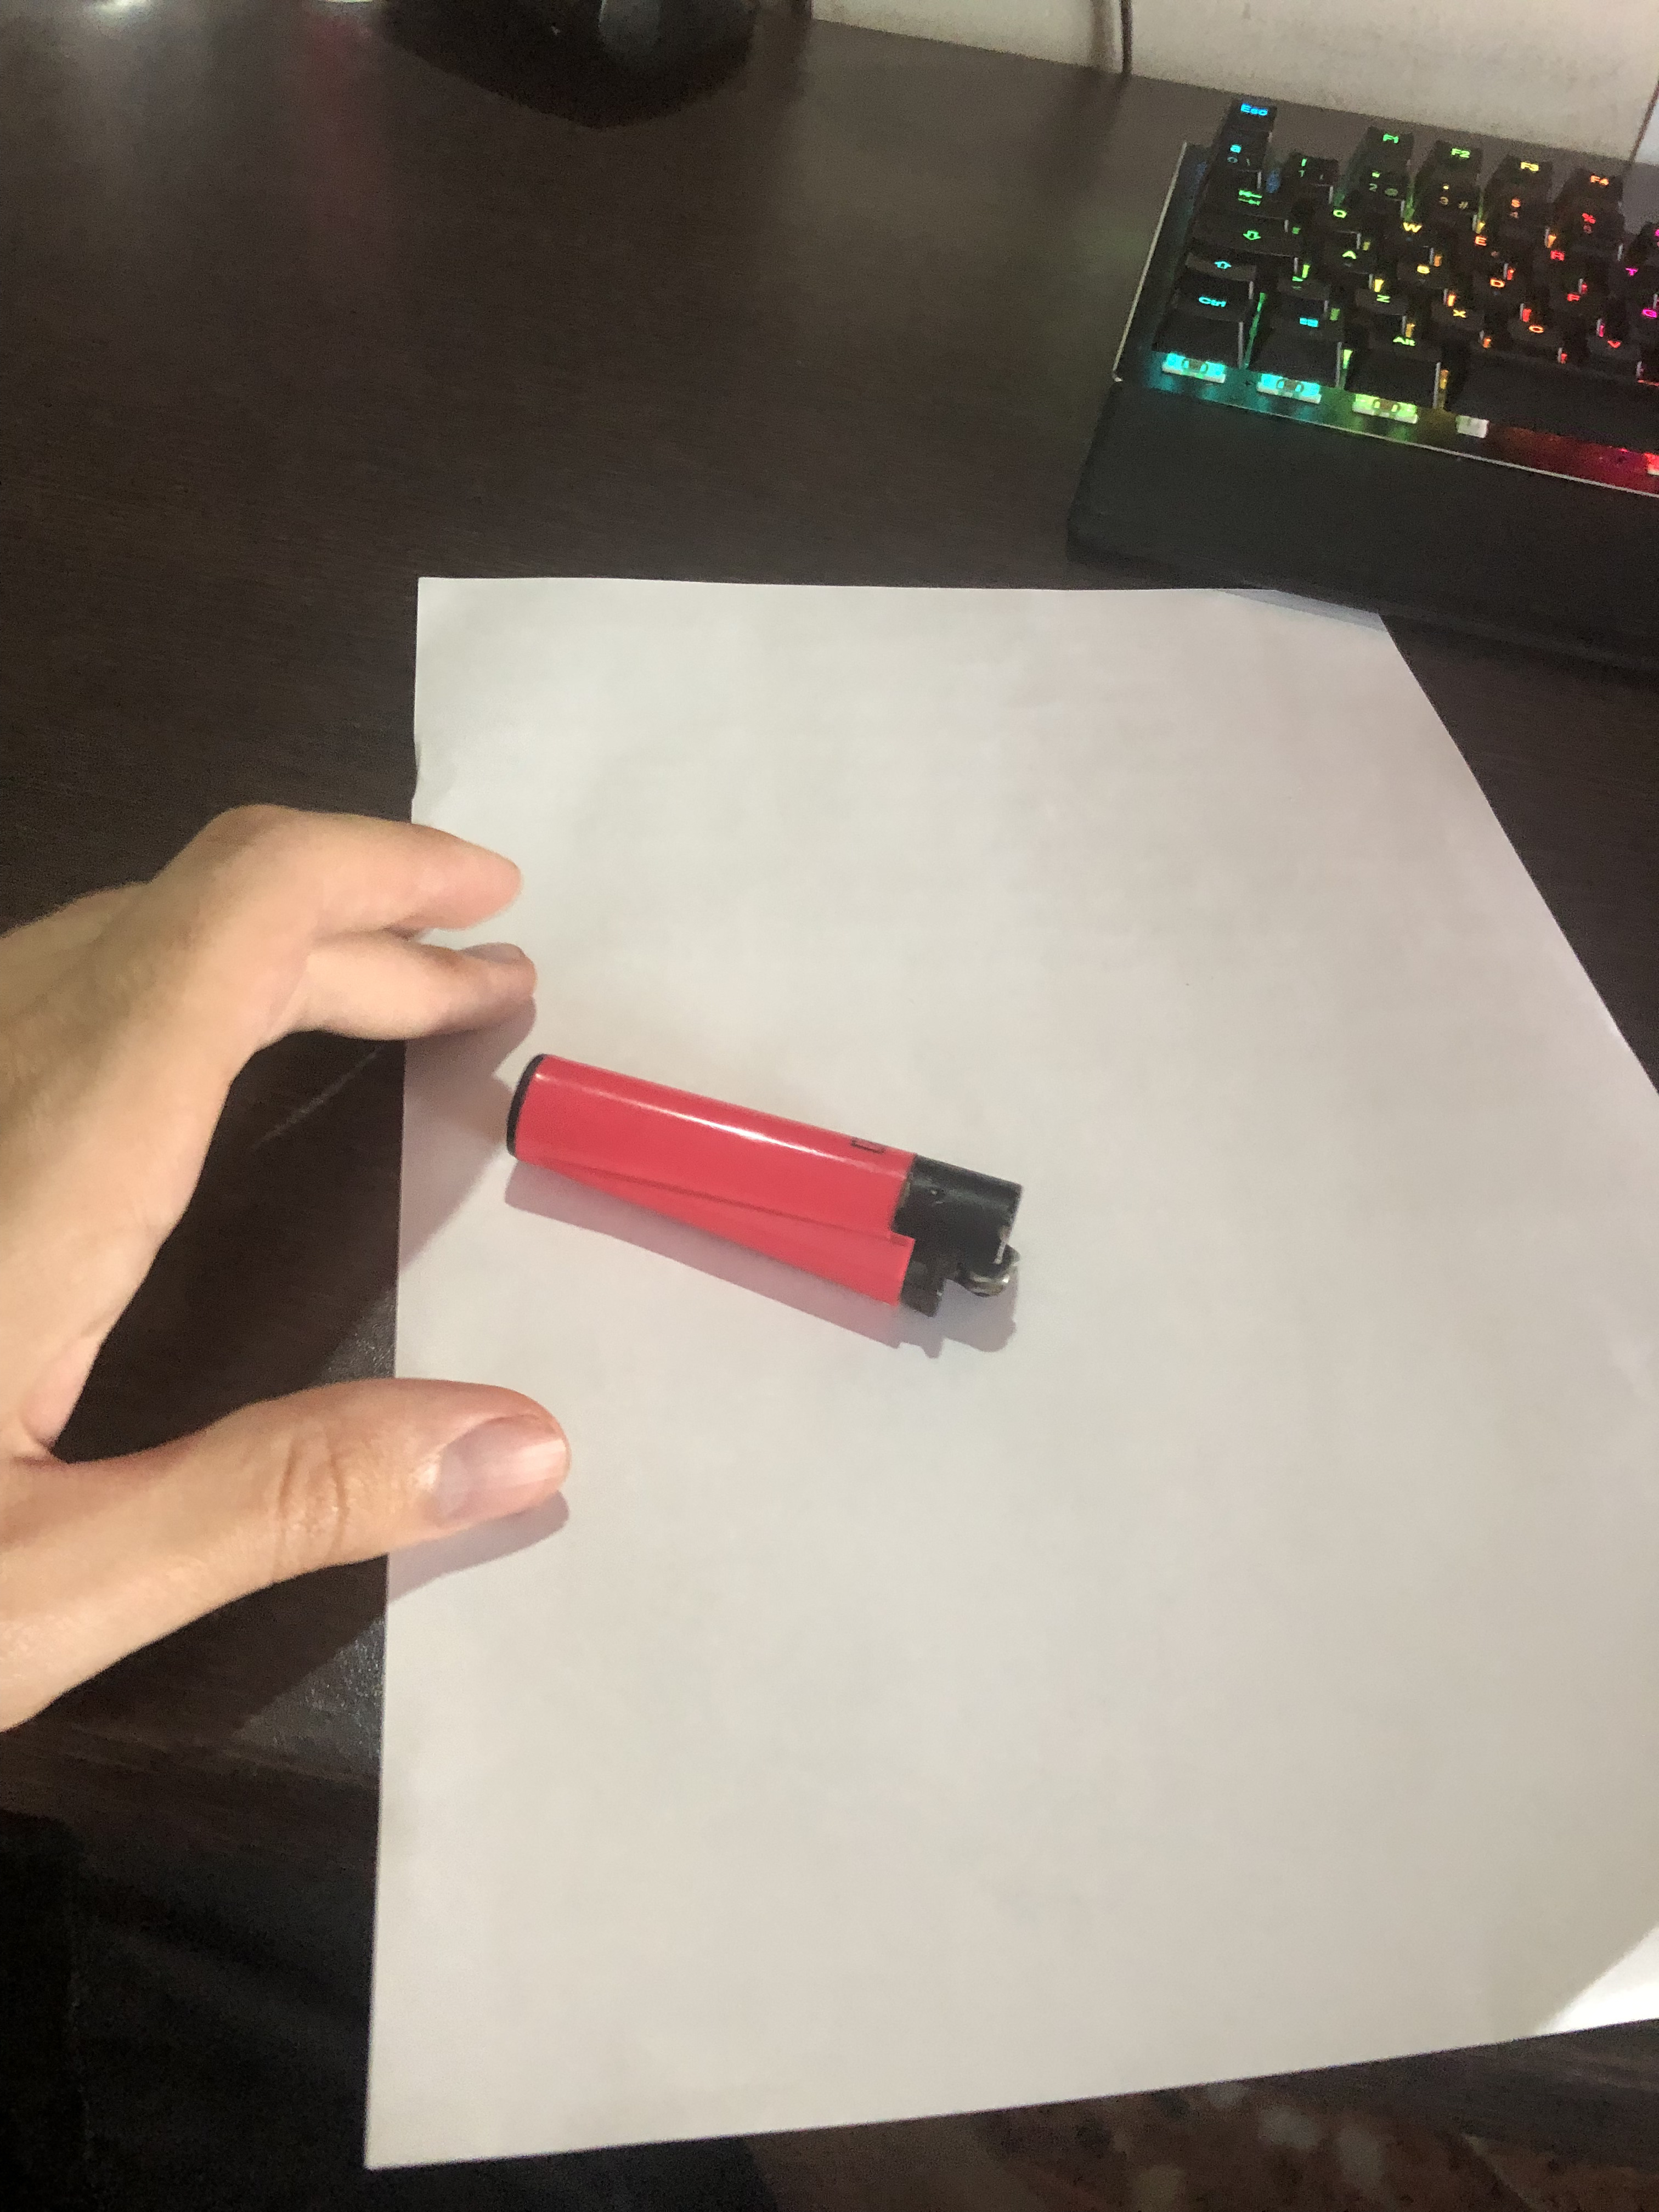Mechero: (476, 1035, 1053, 1341)
